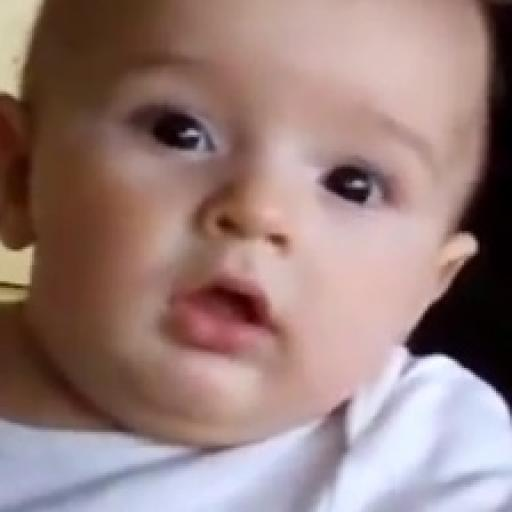Autism: (43, 14, 488, 373)
